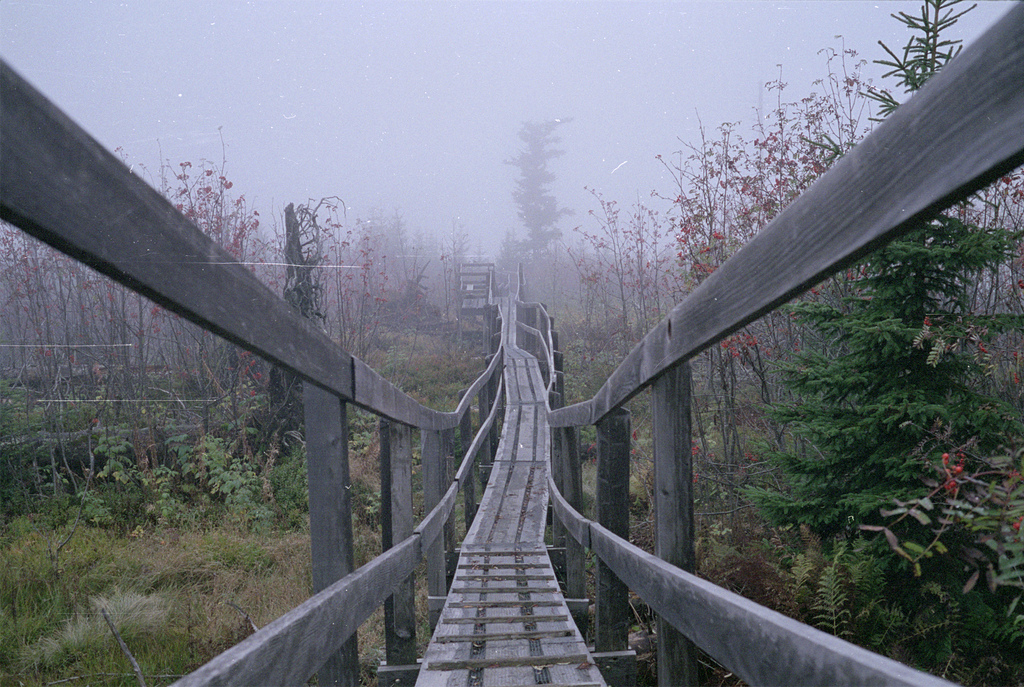Tree: (732, 0, 1023, 589), (492, 115, 574, 309)
